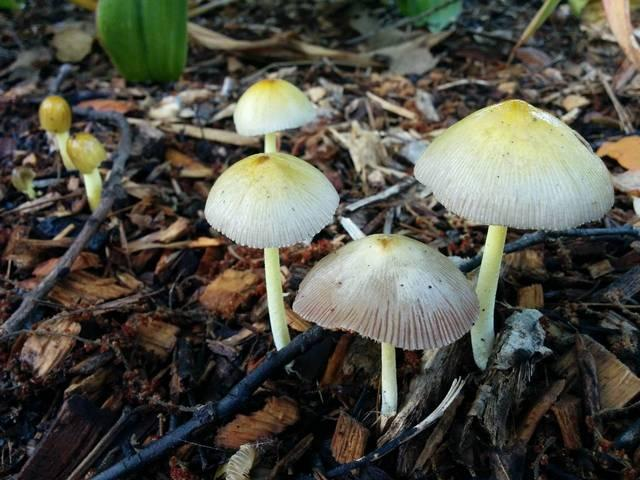Edible Mushroom: (412, 97, 615, 371), (291, 231, 480, 425), (199, 148, 349, 322), (228, 65, 329, 142)
